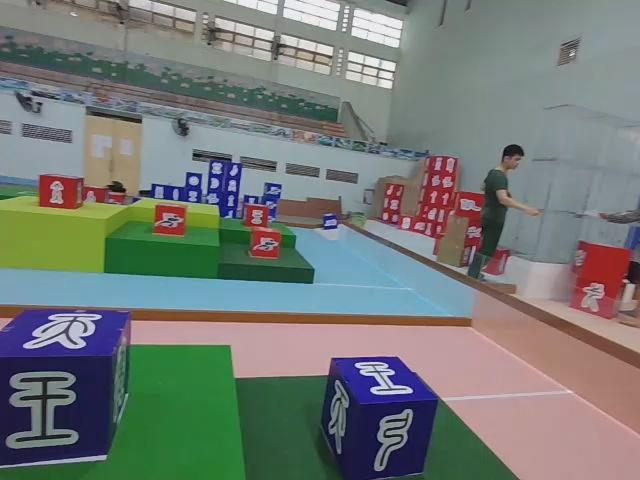R2 Fake Blue: (2, 302, 134, 469), (319, 358, 436, 480)
